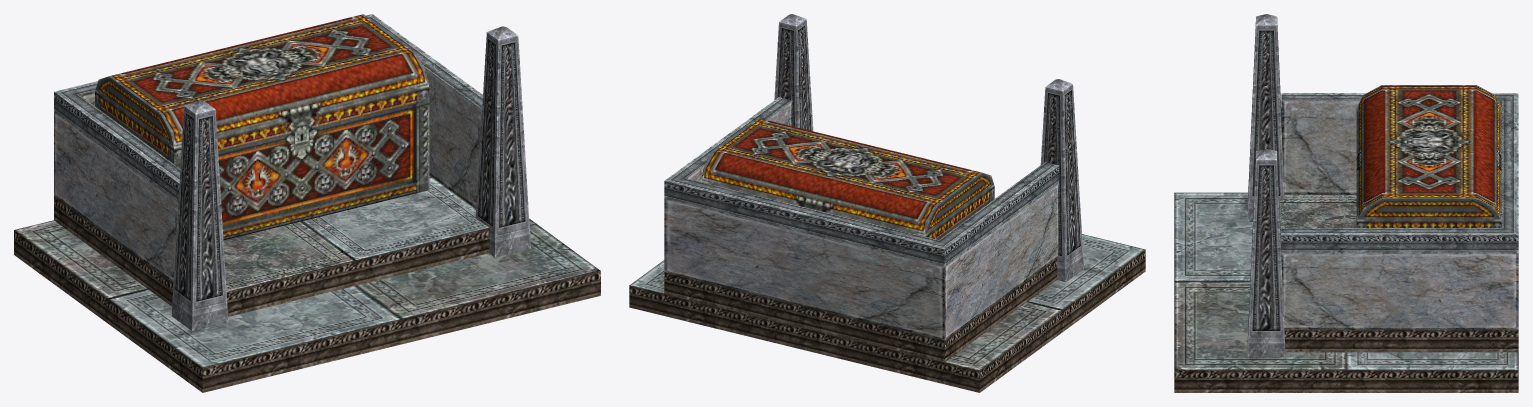
The model's file is cs_chest.glb.
The picture shows the model from 3 angles, left to right: view 1: azimuth 30°, elevation 25°; view 2: azimuth 150°, elevation 25°; view 3: azimuth 270°, elevation 25°; orthographic projection. The views are drawn at different scales.
Visible parts, largest first — view 1: cs_chest-col; view 2: cs_chest-col; view 3: cs_chest-col.
Boxes of the visible parts, x1,y1,x2,y2 form: cs_chest-col: (14,14,600,392); cs_chest-col: (629,14,1145,392); cs_chest-col: (1174,14,1518,392).
Bounding box in the file's own units: 3 × 1.76 × 2.46.
Materials: 5 (5 with a texture image).
